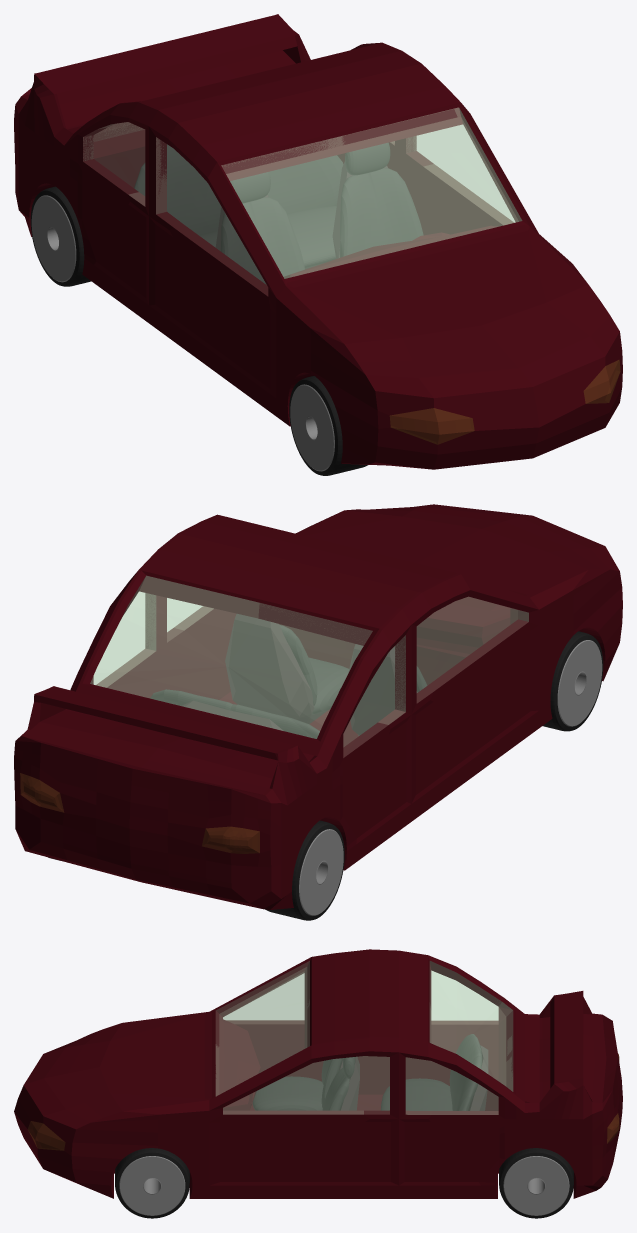
The model's file is Car.fbx.
3 renders of one model, top to bottom at view 1: azimuth 30°, elevation 25°; view 2: azimuth 150°, elevation 25°; view 3: azimuth 270°, elevation 25°, orthographic. The views are drawn at different scales.
Visible parts, largest first — view 1: CarBody, Windows, BackSeat, DriverSeat, PassengerSeat, TireF_R, TireB_R, FrontLights; view 2: CarBody, Windows, DriverSeat, TireB_R, TireF_R, BackSeat, BackLights, PassengerSeat; view 3: CarBody, Windows, TireB_L, TireF_L, BackSeat, PassengerSeat, DriverSeat, FrontLights.
Boxes of the visible parts, x1,y1,x2,y2 form: CarBody: [14, 14, 622, 469]; Windows: [83, 107, 521, 295]; BackSeat: [134, 144, 343, 269]; DriverSeat: [332, 143, 423, 258]; PassengerSeat: [215, 172, 304, 284]; TireF_R: [289, 376, 367, 475]; TireB_R: [30, 186, 91, 286]; FrontLights: [389, 359, 620, 444]; CarBody: [14, 504, 622, 909]; Windows: [90, 576, 528, 757]; DriverSeat: [225, 614, 348, 723]; TireB_R: [266, 820, 344, 920]; TireF_R: [543, 631, 603, 731]; BackSeat: [150, 689, 319, 738]; BackLights: [20, 773, 259, 853]; PassengerSeat: [348, 644, 427, 735]; CarBody: [14, 949, 622, 1198]; Windows: [216, 961, 512, 1114]; TireB_L: [499, 1148, 573, 1218]; TireF_L: [115, 1148, 189, 1218]; BackSeat: [380, 1034, 488, 1110]; PassengerSeat: [252, 1056, 357, 1110]; DriverSeat: [322, 1056, 359, 1110]; FrontLights: [27, 1121, 65, 1150].
Size of the model in its own units: 446 by 385 by 1189.
